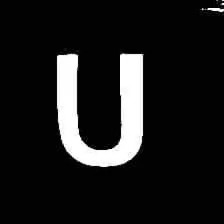LTR_U: (52, 42, 149, 173)
